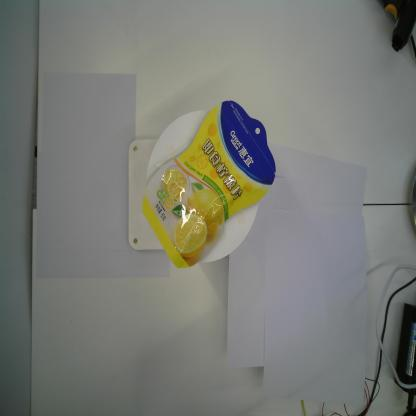Dried Fruit: (142, 99, 276, 270)
